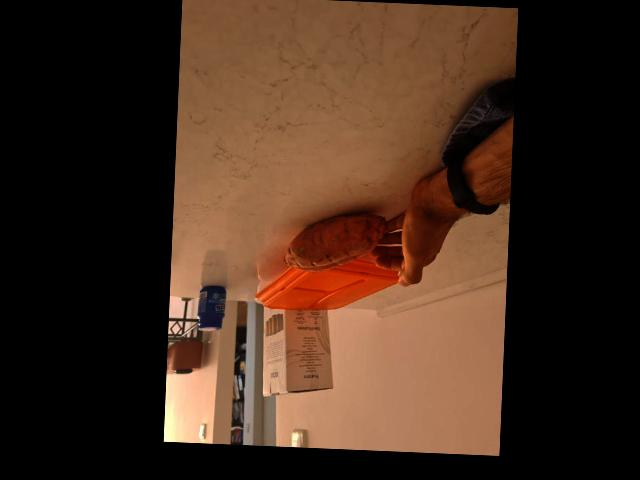sweet_potato: (279, 210, 387, 271)
